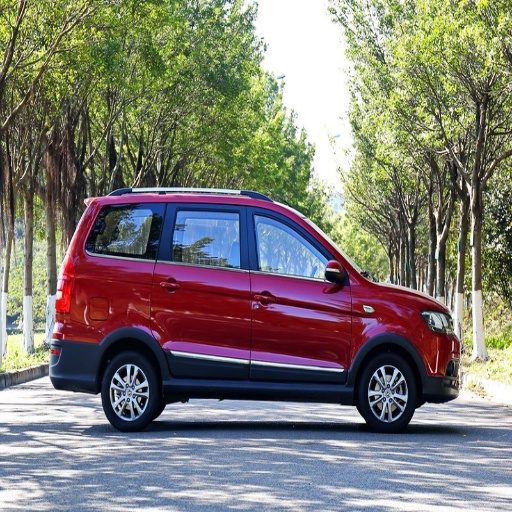back_right_door: (132, 198, 248, 378)
front_right_door: (247, 204, 351, 381)
